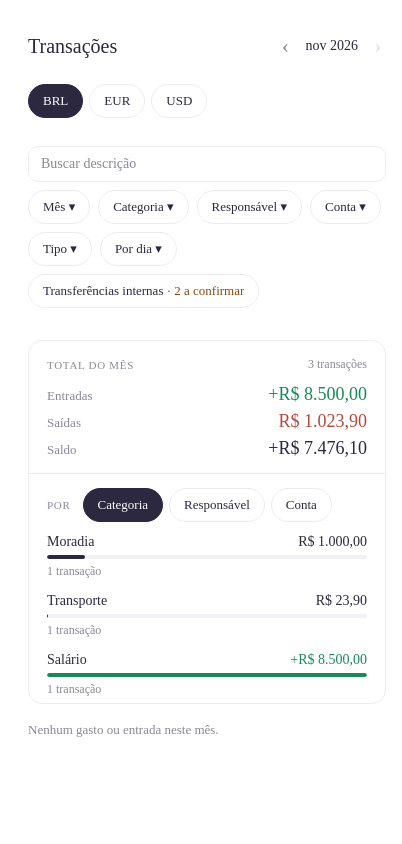
TransactionsScreen on a computer › says when filters find nothing
Click the button "Conta ▾": (345, 207) x1=310 y1=190 x2=381 y2=224
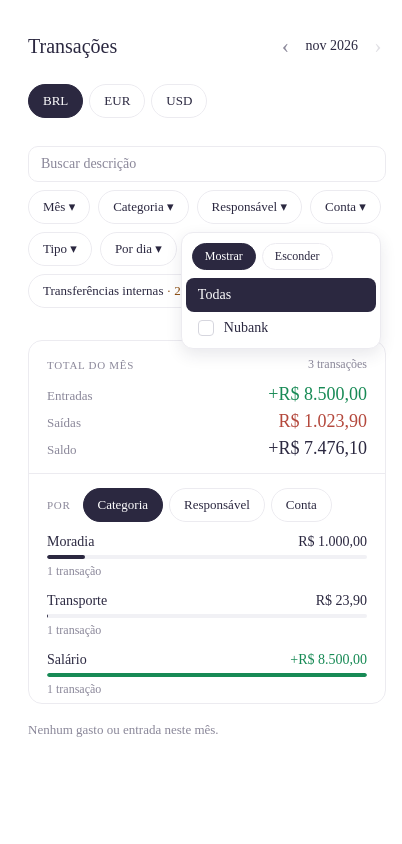
Click the checkbox labelled "Nubank": (233, 328) x1=198 y1=320 x2=268 y2=336
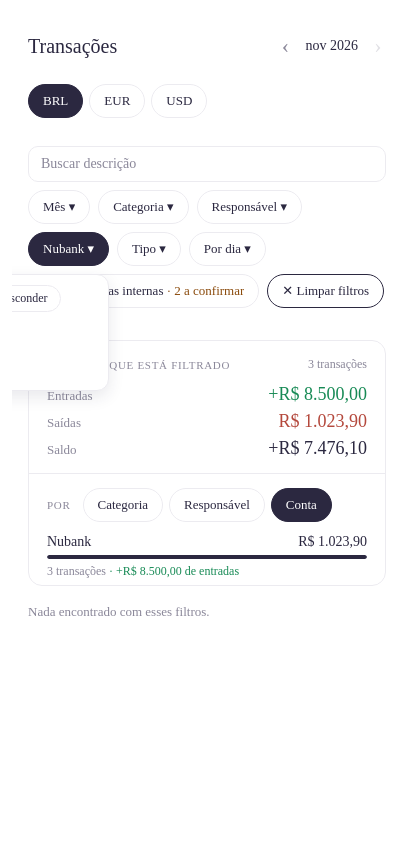
expect the text "Nada encontrado com esses filtros." is shown: met, box x1=28 y1=604 x2=210 y2=619
